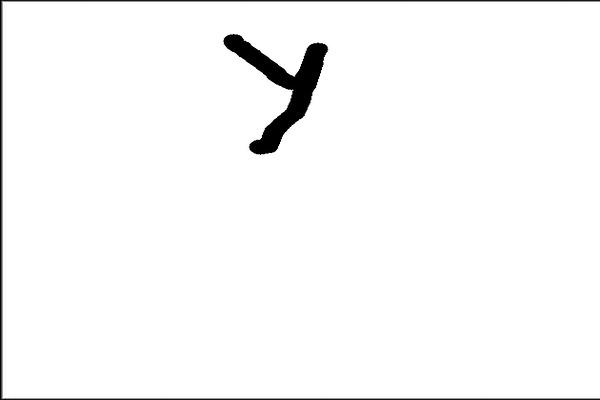Y: (213, 20, 338, 176)
